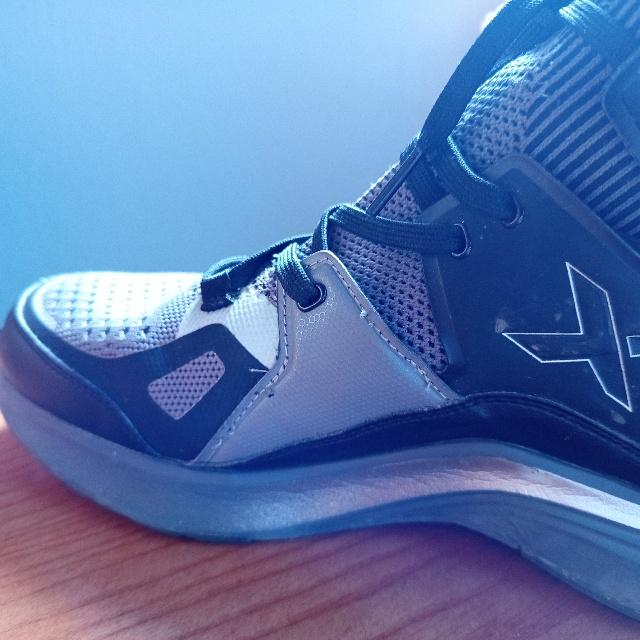broken-error: (211, 418, 238, 452), (357, 306, 377, 331)
